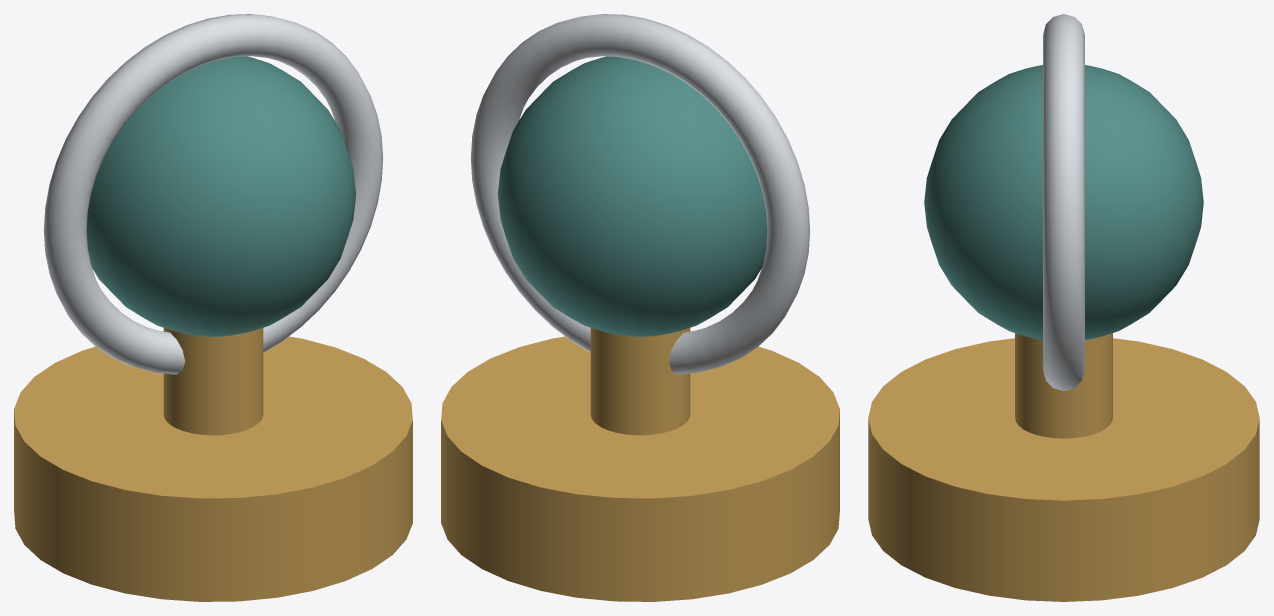
File: token.glb
The picture shows the model from 3 angles, left to right: view 1: azimuth 30°, elevation 25°; view 2: azimuth 150°, elevation 25°; view 3: azimuth 270°, elevation 25°; orthographic projection. The views are drawn at different scales.
Parts seen in each view (by area): view 1: token; view 2: token; view 3: token.
Boxes of the visible parts, bbox=[...] form: token: bbox=[14, 14, 412, 601]; token: bbox=[441, 14, 839, 601]; token: bbox=[868, 14, 1259, 601].
Size of the model in its own units: 0.28 by 0.385 by 0.28.
